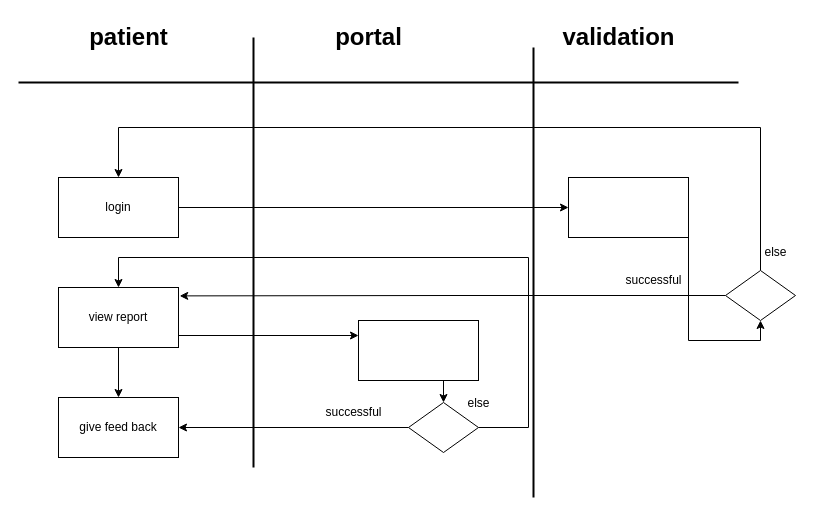
This 813x515 diagram has some shape labels left out. The shapes that lost their labels are listed below. From the top down, each one's box as (x1, y1, x2, y2) in pixels, then its label:
(568, 176, 688, 238): validate login
(358, 320, 478, 380): show report
